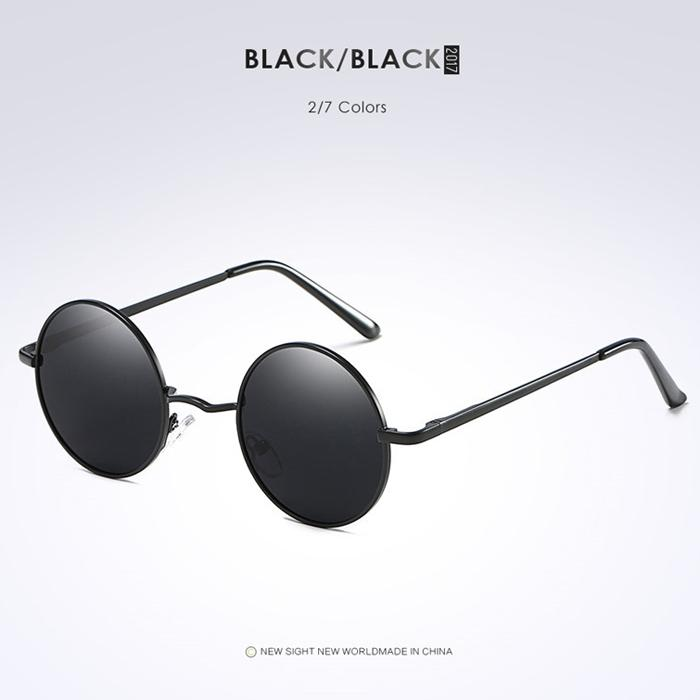sunglasses: (26, 308, 444, 541)
